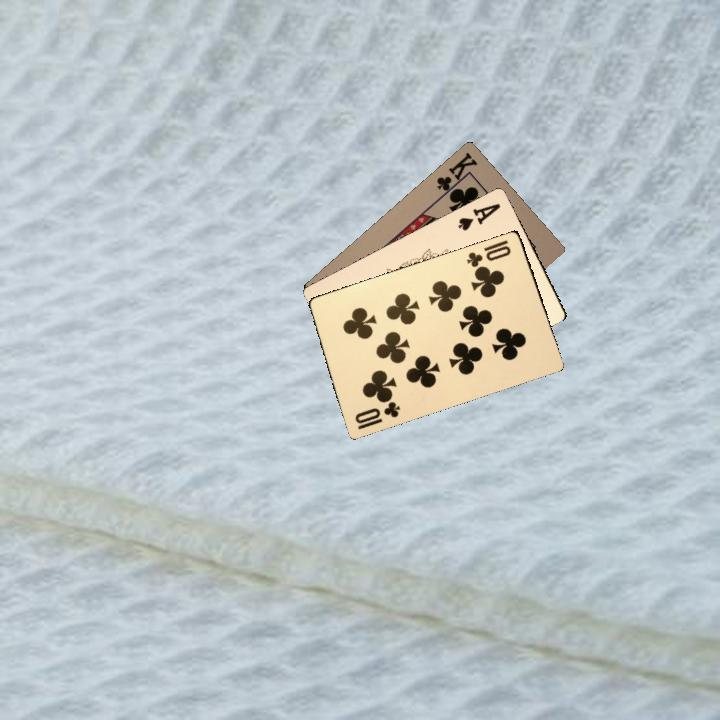10c: (462, 236, 513, 274), (351, 395, 403, 432)
As: (454, 199, 503, 233)
Kc: (432, 148, 480, 200)
